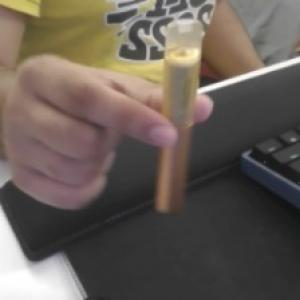Golden-E-Ciggirate: (151, 18, 201, 217)
